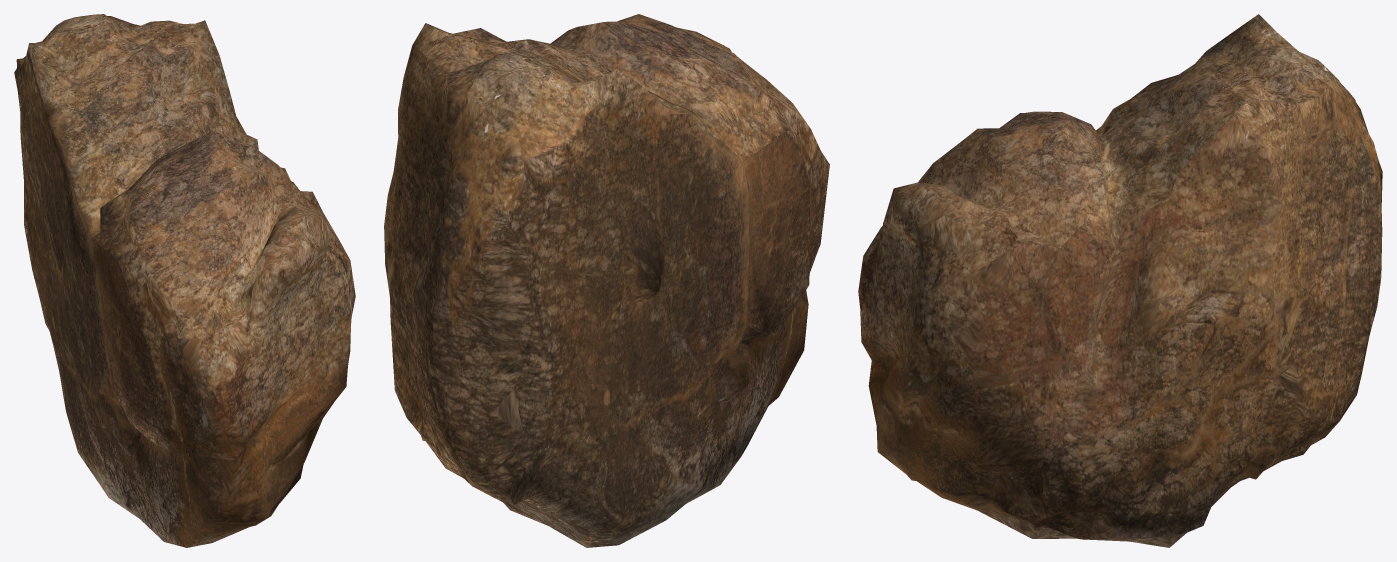
The model's file is namaqualand_boulder_06_hi.glb.
3 views of the same model, side by side, from view 1: azimuth 30°, elevation 25°; view 2: azimuth 150°, elevation 25°; view 3: azimuth 270°, elevation 25° (orthographic). The views are drawn at different scales.
Visible parts, largest first — view 1: namaqualand_boulder_06_hi; view 2: namaqualand_boulder_06_hi; view 3: namaqualand_boulder_06_hi.
Boxes of the visible parts, bbox=[...] form: namaqualand_boulder_06_hi: bbox=[14, 14, 355, 547]; namaqualand_boulder_06_hi: bbox=[384, 14, 829, 547]; namaqualand_boulder_06_hi: bbox=[858, 14, 1382, 547].
Size of the model in its own units: 0.5503 by 0.9915 by 0.9954.
Materials: 1 (1 with a texture image).
